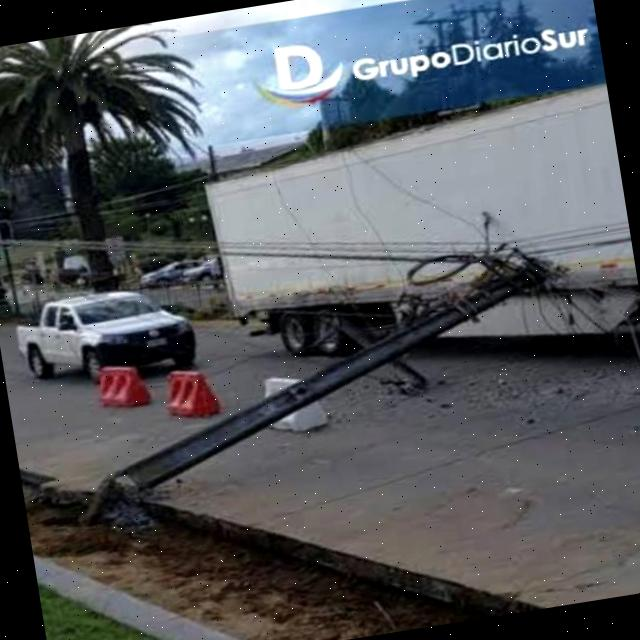Broken Pole: (87, 239, 567, 524)
